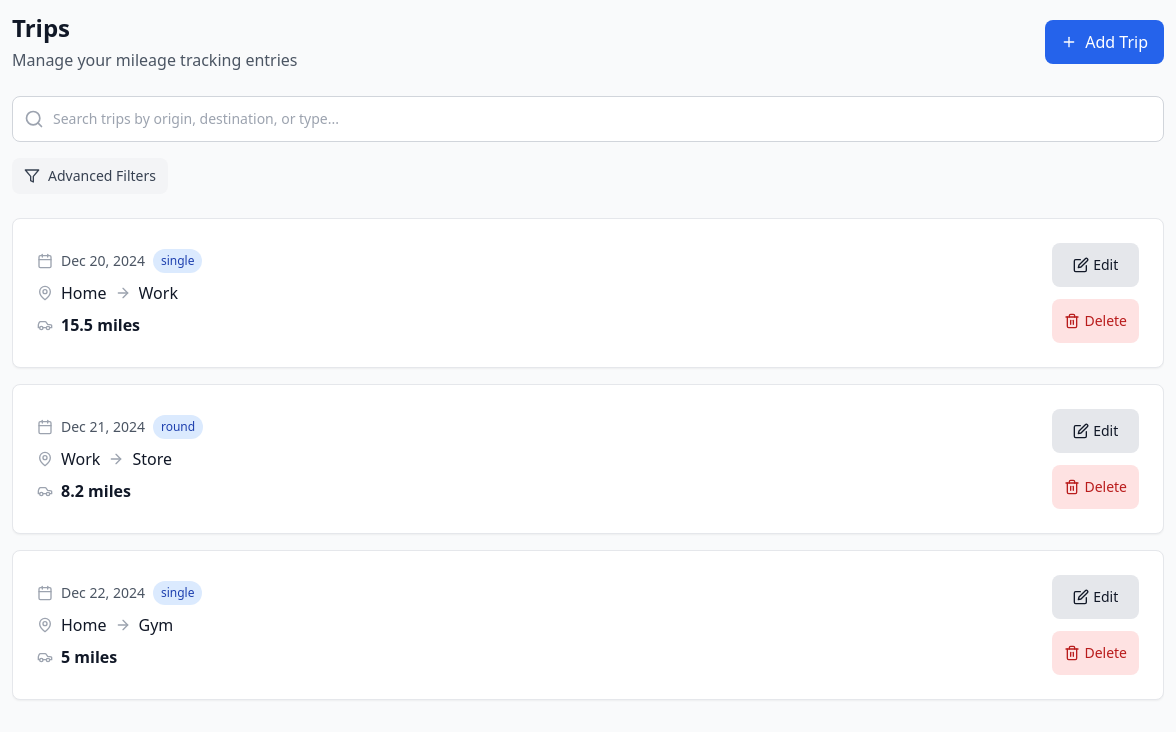
Test: Trips › Search and Filtering › clears search when clear button is clicked
Check: the text "Home" below "Dec 20, 2024" is shown, box [61,282,106,304]
Check: the text "Store" is shown, box [132,447,172,471]
Type "home" into the field with placeholder "Search trips by origin, destination, or type...". click: (588, 119)
box: [12,96,1164,142]
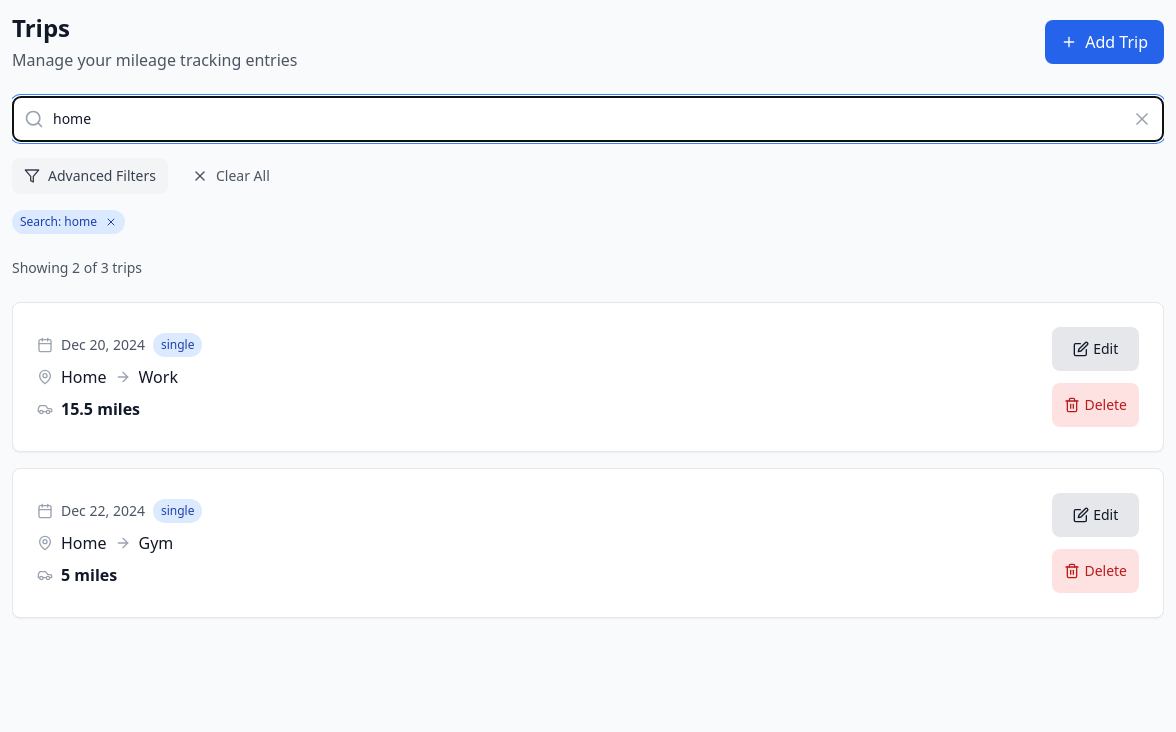
Check: the text "Showing 2 of 3 trips" is shown, box [12,258,142,278]
Check: the text "Store" is gone
Check: the 2nd button is shown
Click the 2nd button. click: (1148, 119)
box: [1132,96,1164,142]
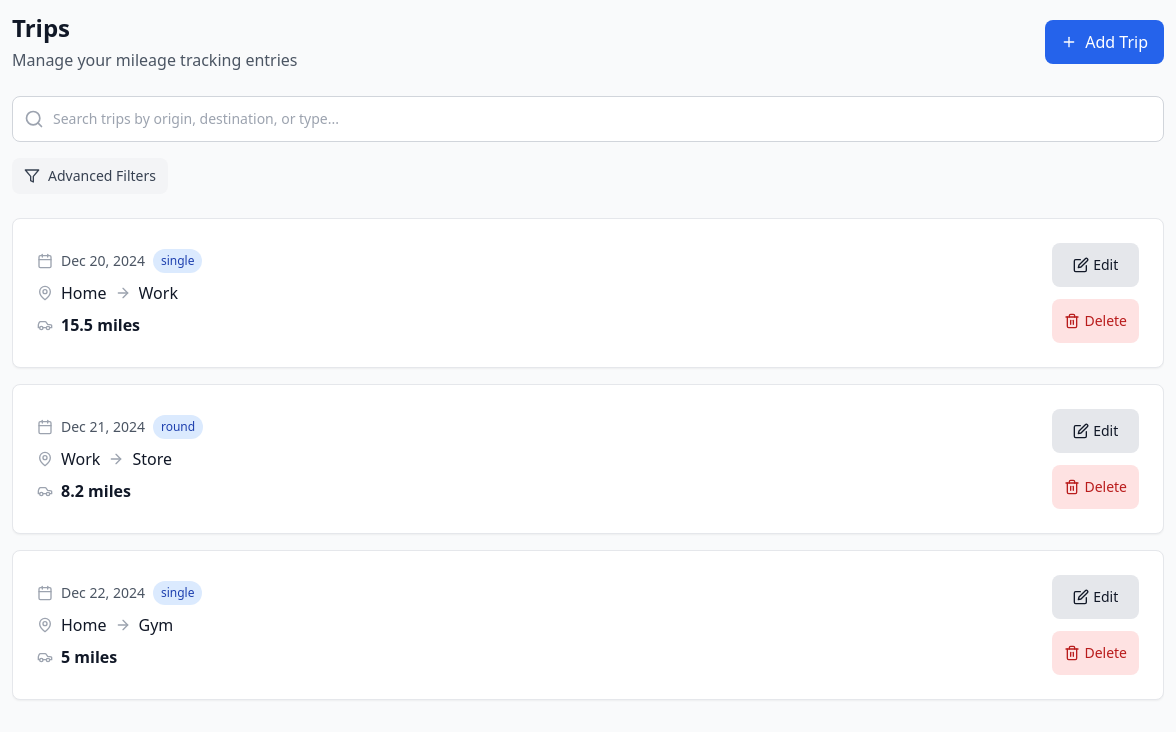
Check: the text "Showing 2 of 3 trips" is gone
Check: the text "Store" is shown, box [132,447,172,471]
